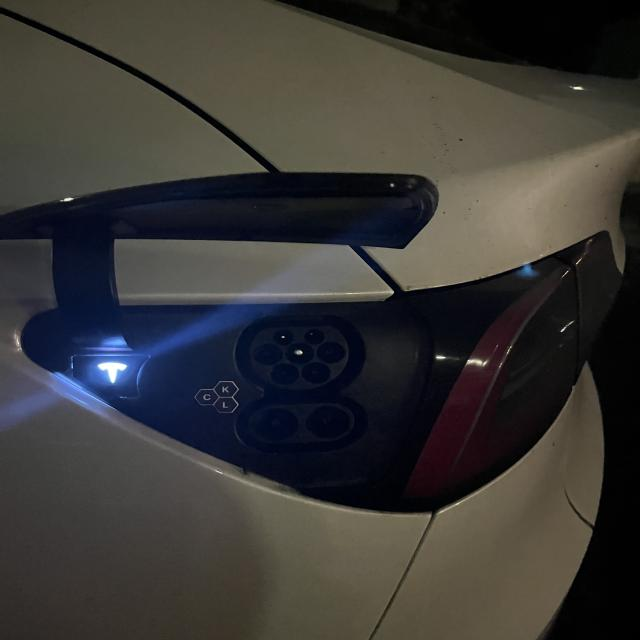inlet: (249, 326, 348, 390)
inlet-above-left: (273, 330, 294, 346)
inlet-above-right: (304, 329, 325, 344)
inlet-below-left: (271, 363, 299, 385)
inlet-below-right: (301, 362, 330, 383)
inlet-circle: (285, 343, 315, 365)
inlet-circle-left: (254, 343, 283, 365)
inlet-circle-right: (316, 341, 345, 364)
inlet-minus: (305, 406, 350, 438)
inlet-plus: (253, 408, 299, 440)
